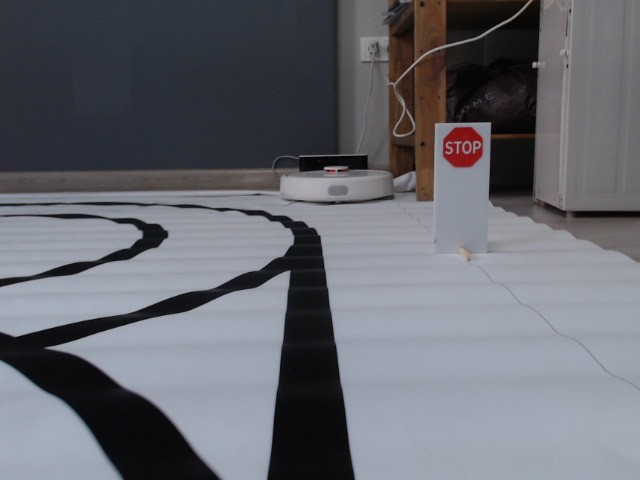Stop: (439, 125, 487, 169)
